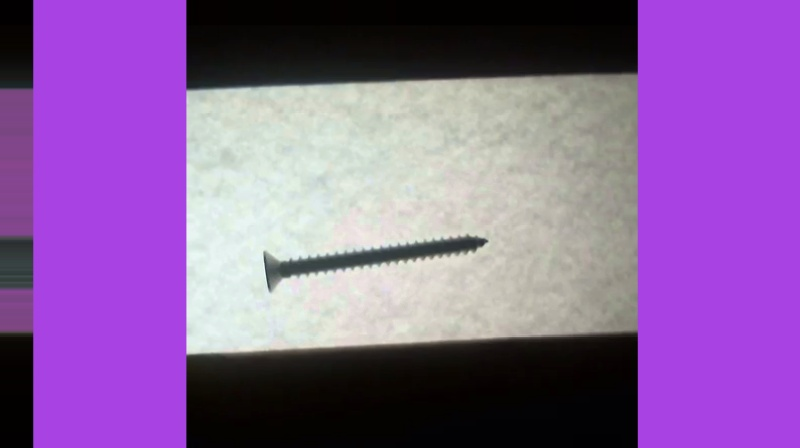S002: (259, 231, 492, 294)
